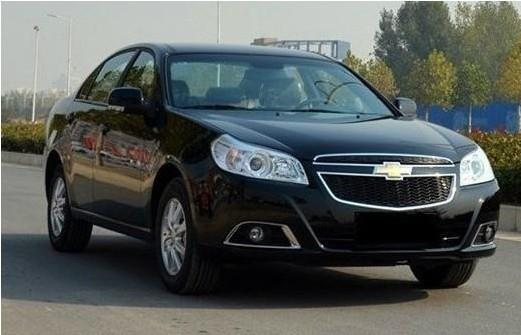car: (36, 40, 502, 298)
